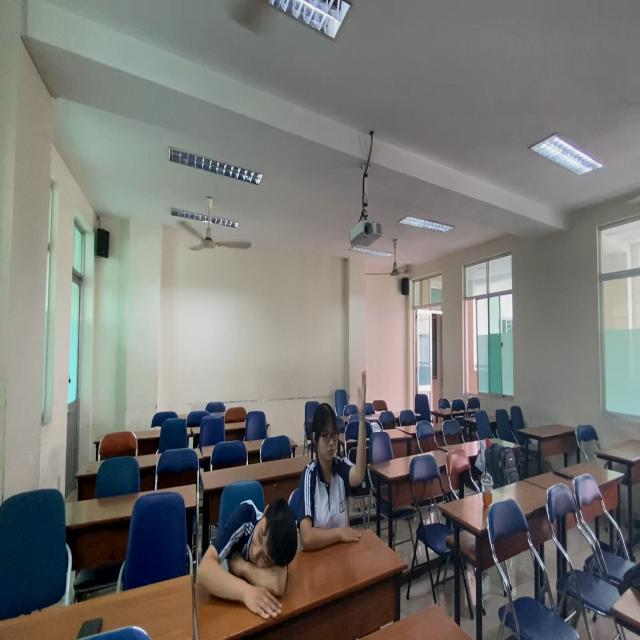raise_hand: (293, 369, 372, 556)
sleep: (195, 490, 301, 623)
